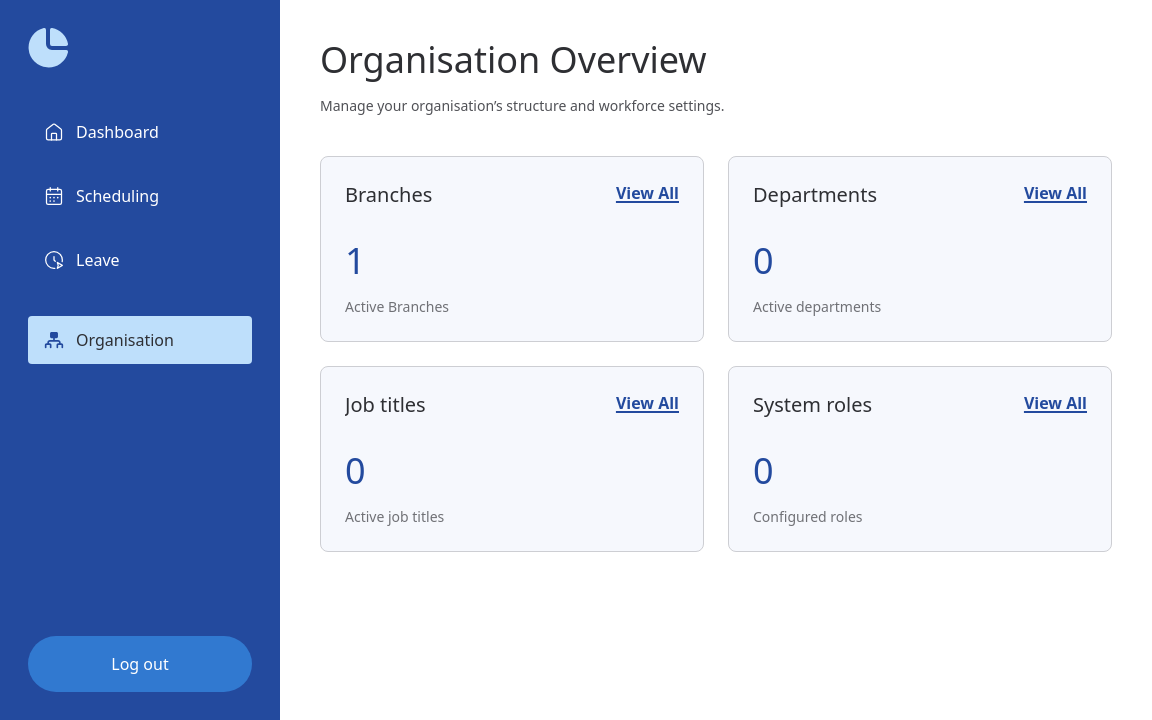
it: Organisation navigation › opens each list from its overview card and keeps Organisation current
Step 1. Click the 1st link "View All" → (647, 193), box x1=616 y1=181 x2=679 y2=205
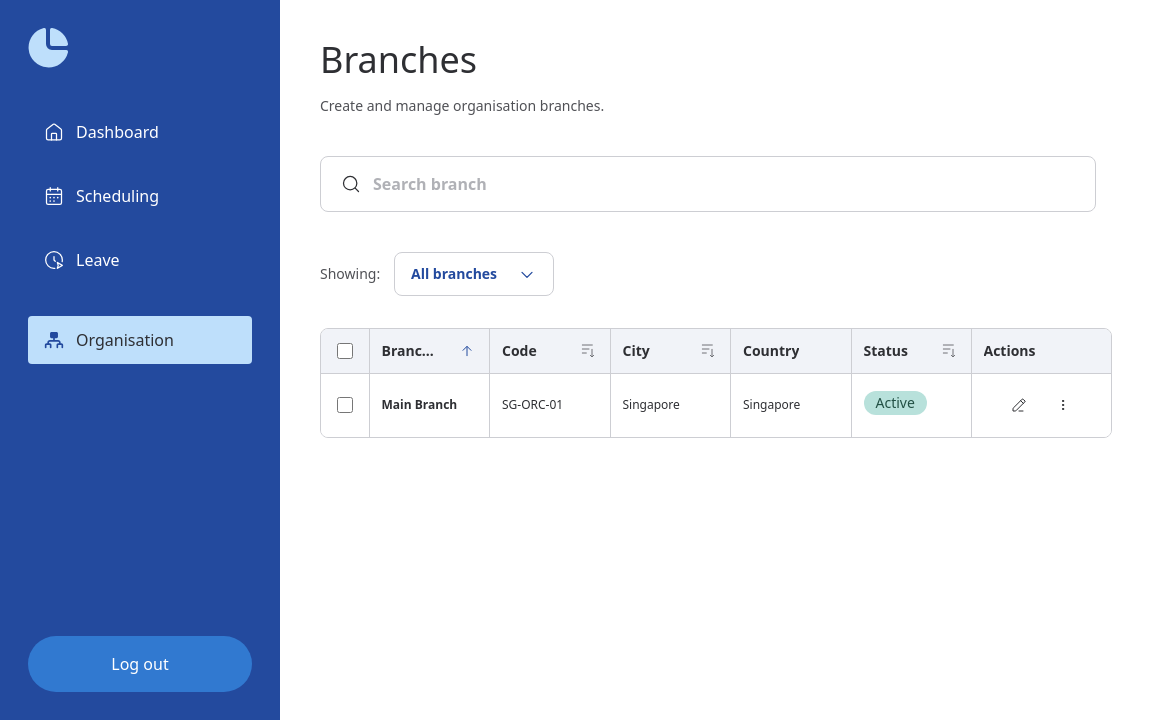
Check: the heading "Branches" is shown, box x1=320 y1=35 x2=477 y2=84
